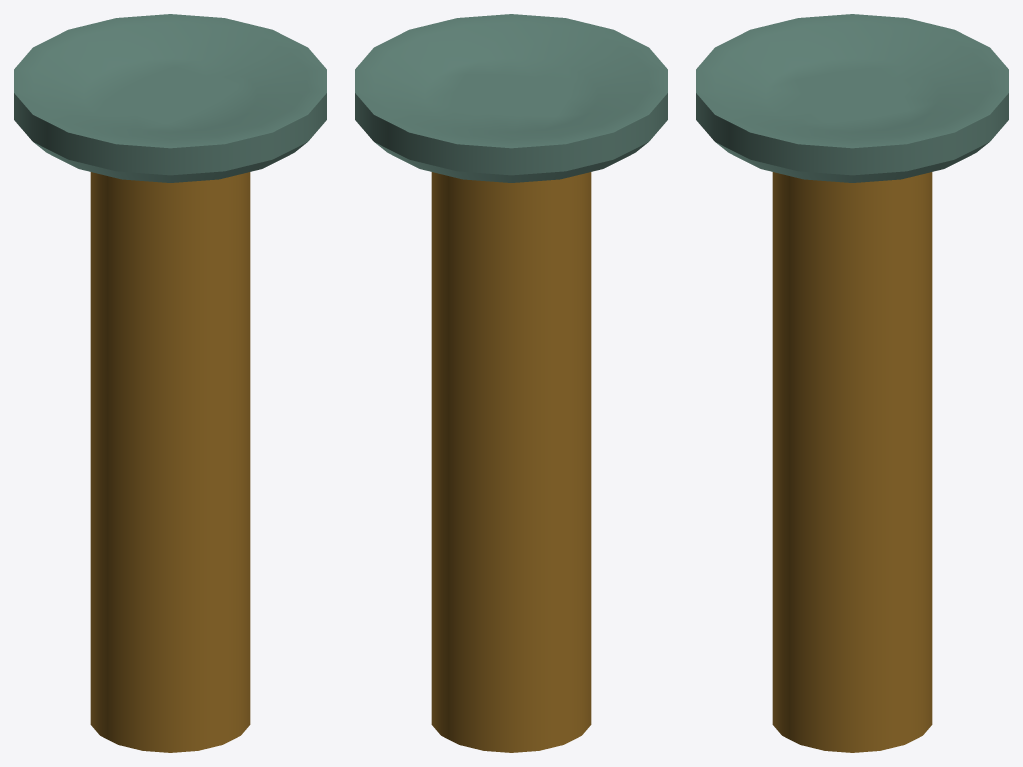
The model's file is SpawnPillar.FBX.
3 renders of one model, left to right at view 1: azimuth 30°, elevation 25°; view 2: azimuth 150°, elevation 25°; view 3: azimuth 270°, elevation 25°, orthographic.
Parts seen in each view (by area): view 1: Cylinder001; view 2: Cylinder001; view 3: Cylinder001.
Part boxes in pixels (x1=…): Cylinder001: x1=14, y1=14, x2=326, y2=752; Cylinder001: x1=355, y1=14, x2=667, y2=752; Cylinder001: x1=696, y1=14, x2=1008, y2=752.
Size of the model in its own units: 7 by 15.49 by 6.89.
